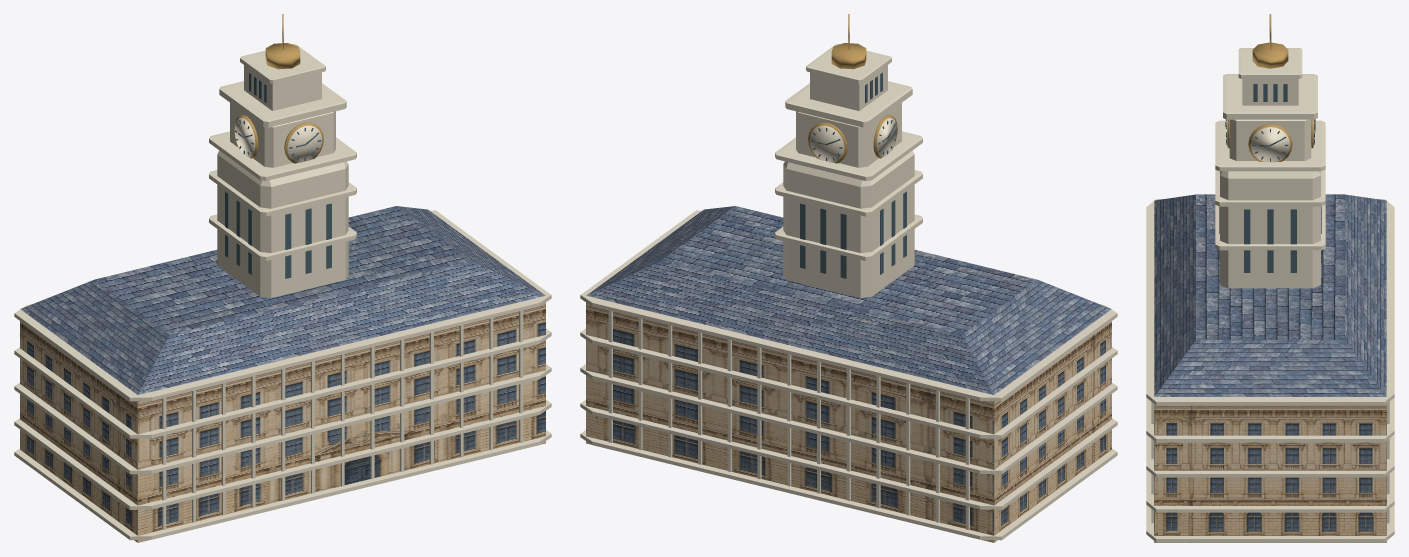
Rendered from customs-lod1.glb.
3 views of the same model, side by side, from view 1: azimuth 30°, elevation 25°; view 2: azimuth 150°, elevation 25°; view 3: azimuth 270°, elevation 25° (orthographic).
Visible parts, largest first — view 1: customs_architecture; view 2: customs_architecture; view 3: customs_architecture.
Boxes of the visible parts, bbox=[...] form: customs_architecture: bbox=[14, 14, 551, 542]; customs_architecture: bbox=[580, 14, 1117, 542]; customs_architecture: bbox=[1146, 14, 1394, 542].
Bounding box in the file's own units: 24.8 × 24.5 × 12.8.
Materials: 6 (3 with a texture image).
